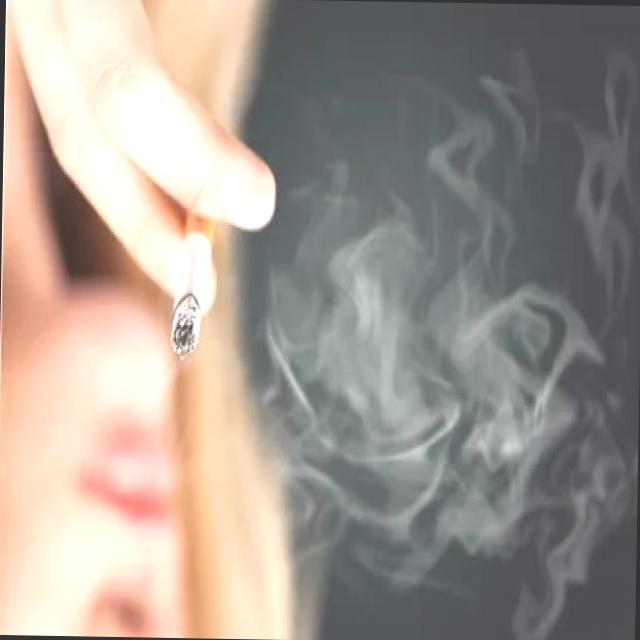cigarette: (170, 188, 217, 366)
